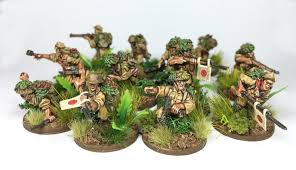Japanese Flag: (57, 94, 82, 113), (252, 109, 270, 130), (197, 64, 211, 82)
